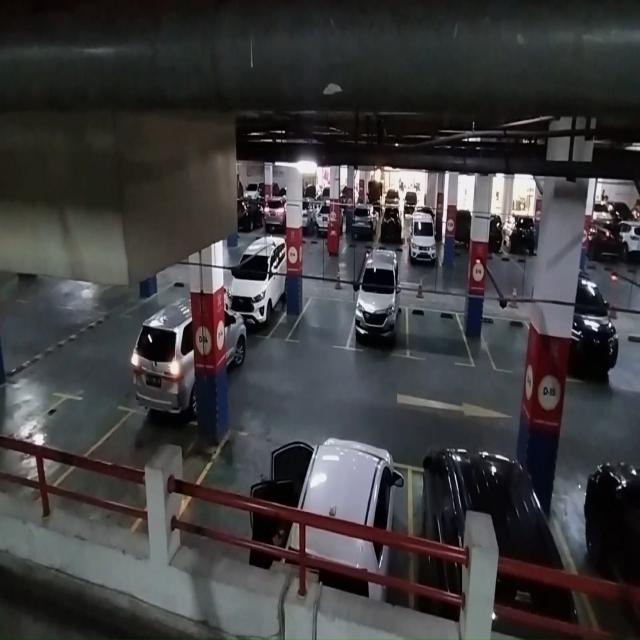empty: (77, 406, 188, 530), (188, 429, 292, 555), (406, 306, 475, 367), (287, 296, 354, 349), (482, 315, 529, 374)
occupied: (408, 461, 578, 613), (302, 440, 412, 608), (227, 242, 286, 340), (348, 262, 408, 358)
